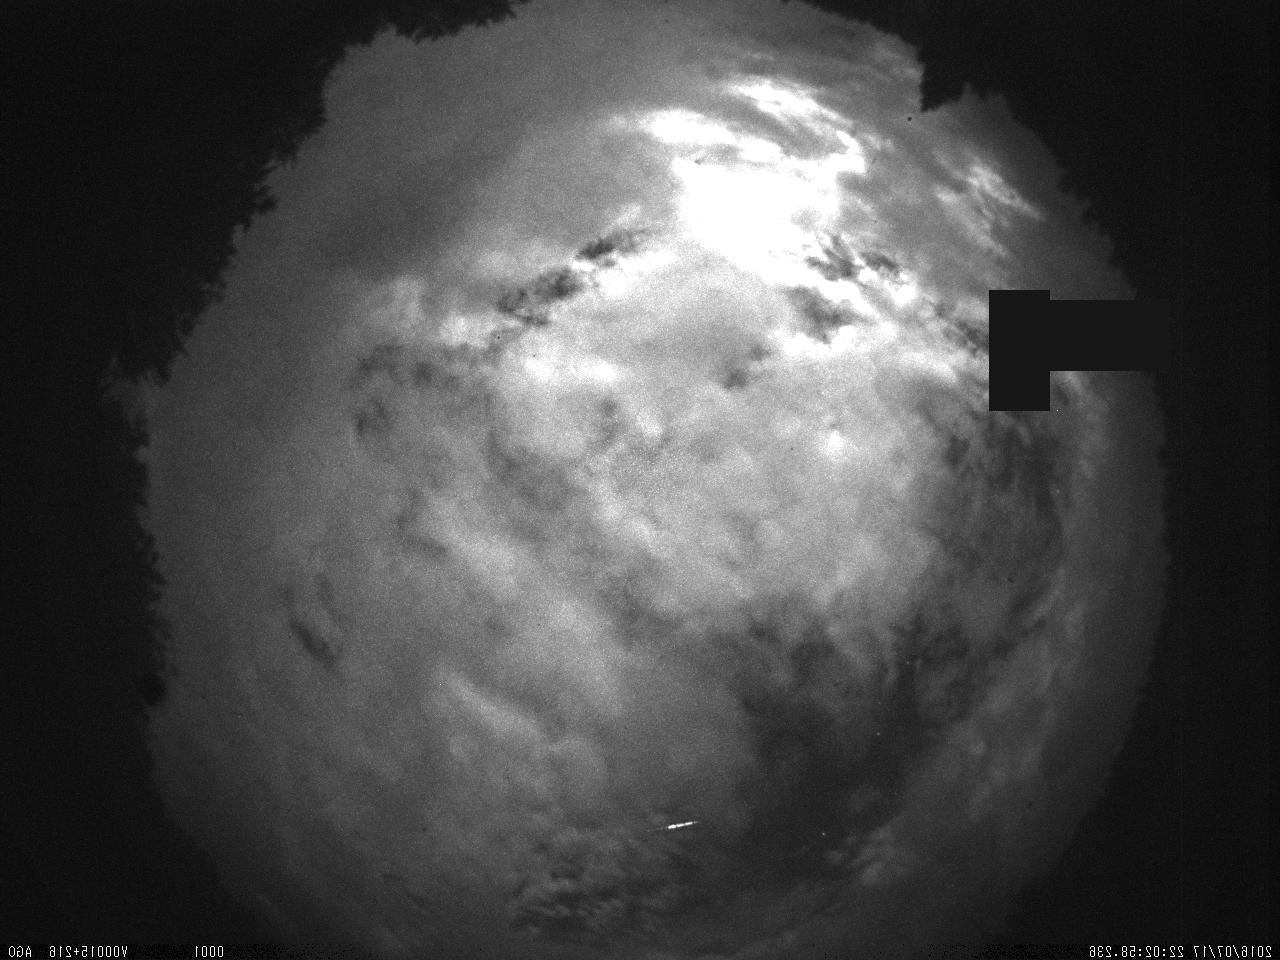meteor: (633, 807, 715, 846)
